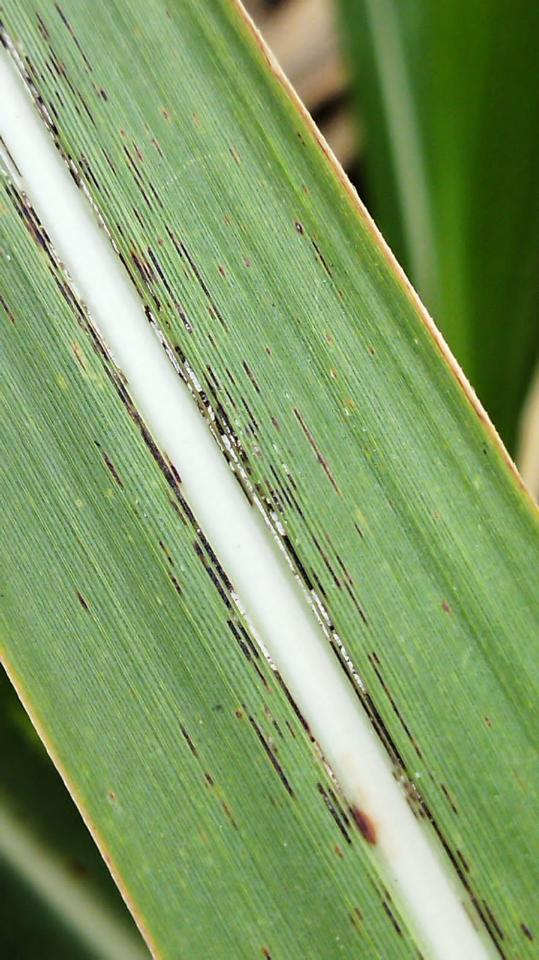RedRot: (349, 804, 381, 848)
Rust: (0, 0, 514, 959), (0, 131, 370, 848), (291, 404, 369, 548), (179, 721, 240, 832), (291, 218, 337, 279), (89, 436, 133, 494), (377, 890, 406, 942), (76, 589, 95, 618), (519, 921, 536, 945), (253, 946, 275, 959)
